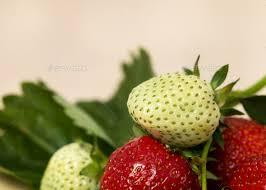straw-ripe: (99, 134, 202, 190)
straw-unripe: (128, 73, 221, 146), (41, 142, 109, 190)
